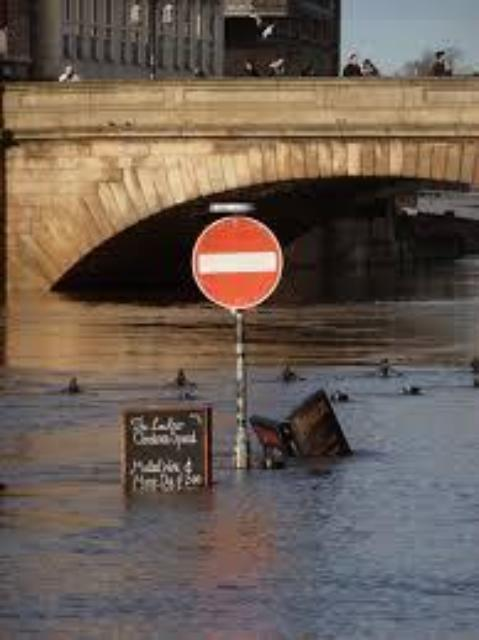B2: (188, 210, 284, 312)
